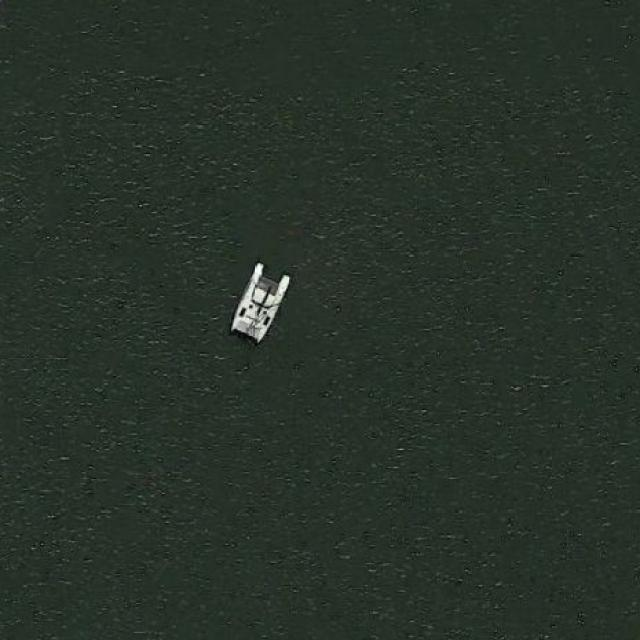ship: (231, 260, 293, 341)
